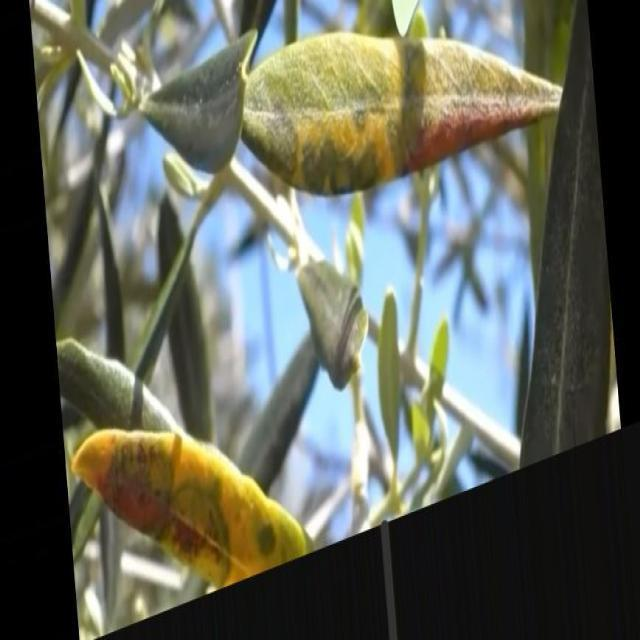OlivePeacockSpot: (242, 34, 555, 194), (71, 429, 306, 586)
